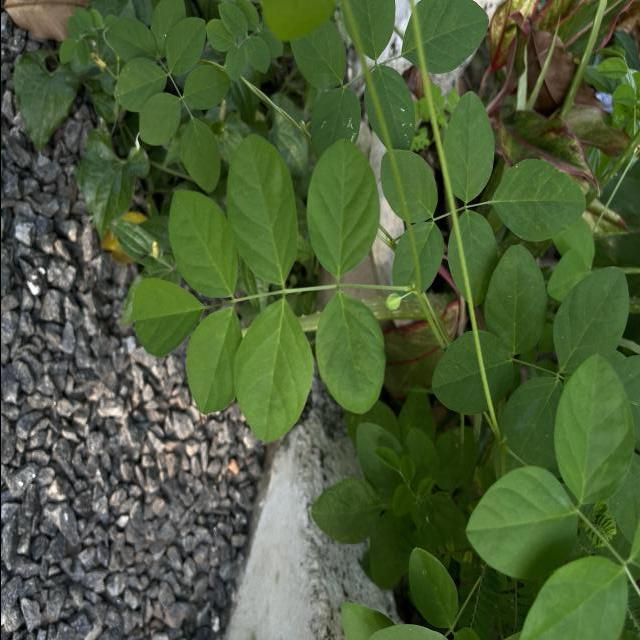Clitoria ternatea: (231, 297, 314, 445), (224, 132, 298, 288), (304, 137, 380, 281), (314, 289, 386, 416), (166, 188, 239, 300), (185, 306, 243, 416), (130, 277, 205, 359)
